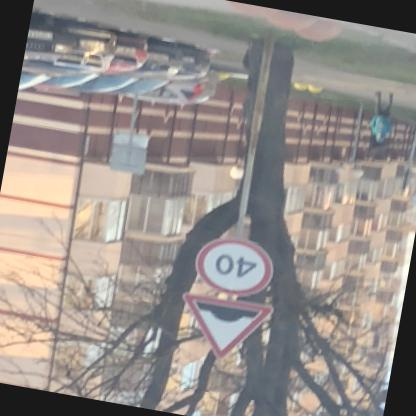speedlimit: (194, 234, 280, 302)
